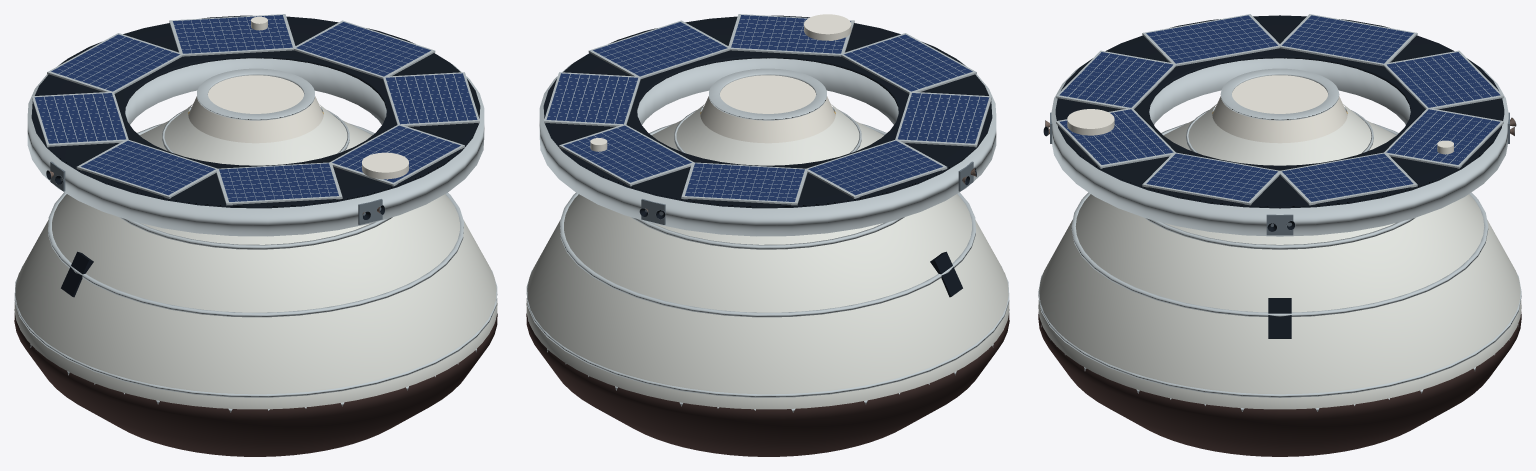
File: perseverance_spacecraft.glb
3 renders of one model, left to right at view 1: azimuth 30°, elevation 25°; view 2: azimuth 150°, elevation 25°; view 3: azimuth 270°, elevation 25°, orthographic.
Visible parts, largest first — view 1: mars_backshell.mesh_Pale_thermal_blanket, mars_cruise_stage.mesh_Satin_aluminum, mars_heatshield.mesh_Ablative_thermal_protection, mars_cruise_stage.mesh_Shadowed_interior, mars_backshell.mesh_Satin_aluminum, mars_backshell.parachute_cover.mesh_Warm_white_enamel, mars_cruise_stage.solar_panel_08.mesh_Indigo_solar_cells, mars_cruise_stage.solar_panel_07.mesh_Indigo_solar_cells, mars_cruise_stage.solar_panel_03.mesh_Indigo_solar_cells, mars_cruise_stage.solar_panel_05.mesh_Indigo_solar_cells, mars_cruise_stage.solar_panel_02.mesh_Indigo_solar_cells, mars_cruise_stage.solar_panel_06.mesh_Indigo_solar_cells (+13 smaller); view 2: mars_backshell.mesh_Pale_thermal_blanket, mars_cruise_stage.mesh_Satin_aluminum, mars_heatshield.mesh_Ablative_thermal_protection, mars_cruise_stage.mesh_Shadowed_interior, mars_backshell.mesh_Satin_aluminum, mars_backshell.parachute_cover.mesh_Warm_white_enamel, mars_cruise_stage.solar_panel_05.mesh_Indigo_solar_cells, mars_cruise_stage.solar_panel_06.mesh_Indigo_solar_cells, mars_cruise_stage.solar_panel_02.mesh_Indigo_solar_cells, mars_cruise_stage.solar_panel_08.mesh_Indigo_solar_cells, mars_cruise_stage.solar_panel_03.mesh_Indigo_solar_cells, mars_cruise_stage.solar_panel_07.mesh_Indigo_solar_cells (+13 smaller); view 3: mars_backshell.mesh_Pale_thermal_blanket, mars_cruise_stage.mesh_Satin_aluminum, mars_heatshield.mesh_Ablative_thermal_protection, mars_cruise_stage.mesh_Shadowed_interior, mars_backshell.mesh_Satin_aluminum, mars_backshell.parachute_cover.mesh_Warm_white_enamel, mars_cruise_stage.solar_panel_02.mesh_Indigo_solar_cells, mars_cruise_stage.solar_panel_03.mesh_Indigo_solar_cells, mars_cruise_stage.solar_panel_06.mesh_Indigo_solar_cells, mars_cruise_stage.solar_panel_07.mesh_Indigo_solar_cells, mars_cruise_stage.solar_panel_05.mesh_Indigo_solar_cells, mars_cruise_stage.solar_panel_08.mesh_Indigo_solar_cells (+14 smaller).
Part boxes in pixels (x1,y1,x2,y2): mars_backshell.mesh_Pale_thermal_blanket: [14, 104, 497, 409]; mars_cruise_stage.mesh_Satin_aluminum: [27, 58, 484, 236]; mars_heatshield.mesh_Ablative_thermal_protection: [14, 313, 497, 456]; mars_cruise_stage.mesh_Shadowed_interior: [31, 15, 480, 208]; mars_backshell.mesh_Satin_aluminum: [14, 107, 497, 397]; mars_backshell.parachute_cover.mesh_Warm_white_enamel: [188, 75, 323, 143]; mars_cruise_stage.solar_panel_08.mesh_Indigo_solar_cells: [219, 163, 338, 201]; mars_cruise_stage.solar_panel_07.mesh_Indigo_solar_cells: [81, 140, 215, 195]; mars_cruise_stage.solar_panel_03.mesh_Indigo_solar_cells: [296, 22, 430, 76]; mars_cruise_stage.solar_panel_05.mesh_Indigo_solar_cells: [51, 34, 179, 91]; mars_cruise_stage.solar_panel_02.mesh_Indigo_solar_cells: [386, 73, 477, 124]; mars_cruise_stage.solar_panel_06.mesh_Indigo_solar_cells: [34, 93, 125, 143]; mars_backshell.mesh_Pale_thermal_blanket: [526, 104, 1009, 409]; mars_cruise_stage.mesh_Satin_aluminum: [539, 58, 996, 236]; mars_heatshield.mesh_Ablative_thermal_protection: [526, 313, 1009, 456]; mars_cruise_stage.mesh_Shadowed_interior: [543, 15, 992, 208]; mars_backshell.mesh_Satin_aluminum: [526, 107, 1009, 397]; mars_backshell.parachute_cover.mesh_Warm_white_enamel: [700, 75, 835, 143]; mars_cruise_stage.solar_panel_05.mesh_Indigo_solar_cells: [685, 163, 804, 201]; mars_cruise_stage.solar_panel_06.mesh_Indigo_solar_cells: [808, 140, 942, 195]; mars_cruise_stage.solar_panel_02.mesh_Indigo_solar_cells: [593, 22, 727, 76]; mars_cruise_stage.solar_panel_08.mesh_Indigo_solar_cells: [844, 34, 972, 91]; mars_cruise_stage.solar_panel_03.mesh_Indigo_solar_cells: [546, 73, 637, 124]; mars_cruise_stage.solar_panel_07.mesh_Indigo_solar_cells: [898, 93, 989, 143]; mars_backshell.mesh_Pale_thermal_blanket: [1038, 104, 1521, 409]; mars_cruise_stage.mesh_Satin_aluminum: [1051, 58, 1508, 236]; mars_heatshield.mesh_Ablative_thermal_protection: [1038, 312, 1521, 456]; mars_cruise_stage.mesh_Shadowed_interior: [1055, 15, 1504, 208]; mars_backshell.mesh_Satin_aluminum: [1038, 107, 1521, 397]; mars_backshell.parachute_cover.mesh_Warm_white_enamel: [1212, 75, 1347, 143]; mars_cruise_stage.solar_panel_02.mesh_Indigo_solar_cells: [1146, 153, 1277, 201]; mars_cruise_stage.solar_panel_03.mesh_Indigo_solar_cells: [1282, 153, 1413, 201]; mars_cruise_stage.solar_panel_06.mesh_Indigo_solar_cells: [1282, 15, 1413, 63]; mars_cruise_stage.solar_panel_07.mesh_Indigo_solar_cells: [1146, 15, 1277, 63]; mars_cruise_stage.solar_panel_05.mesh_Indigo_solar_cells: [1387, 52, 1500, 107]; mars_cruise_stage.solar_panel_08.mesh_Indigo_solar_cells: [1059, 52, 1172, 107].
Bounding box in the file's own units: 4.5 × 3.26 × 4.5.
